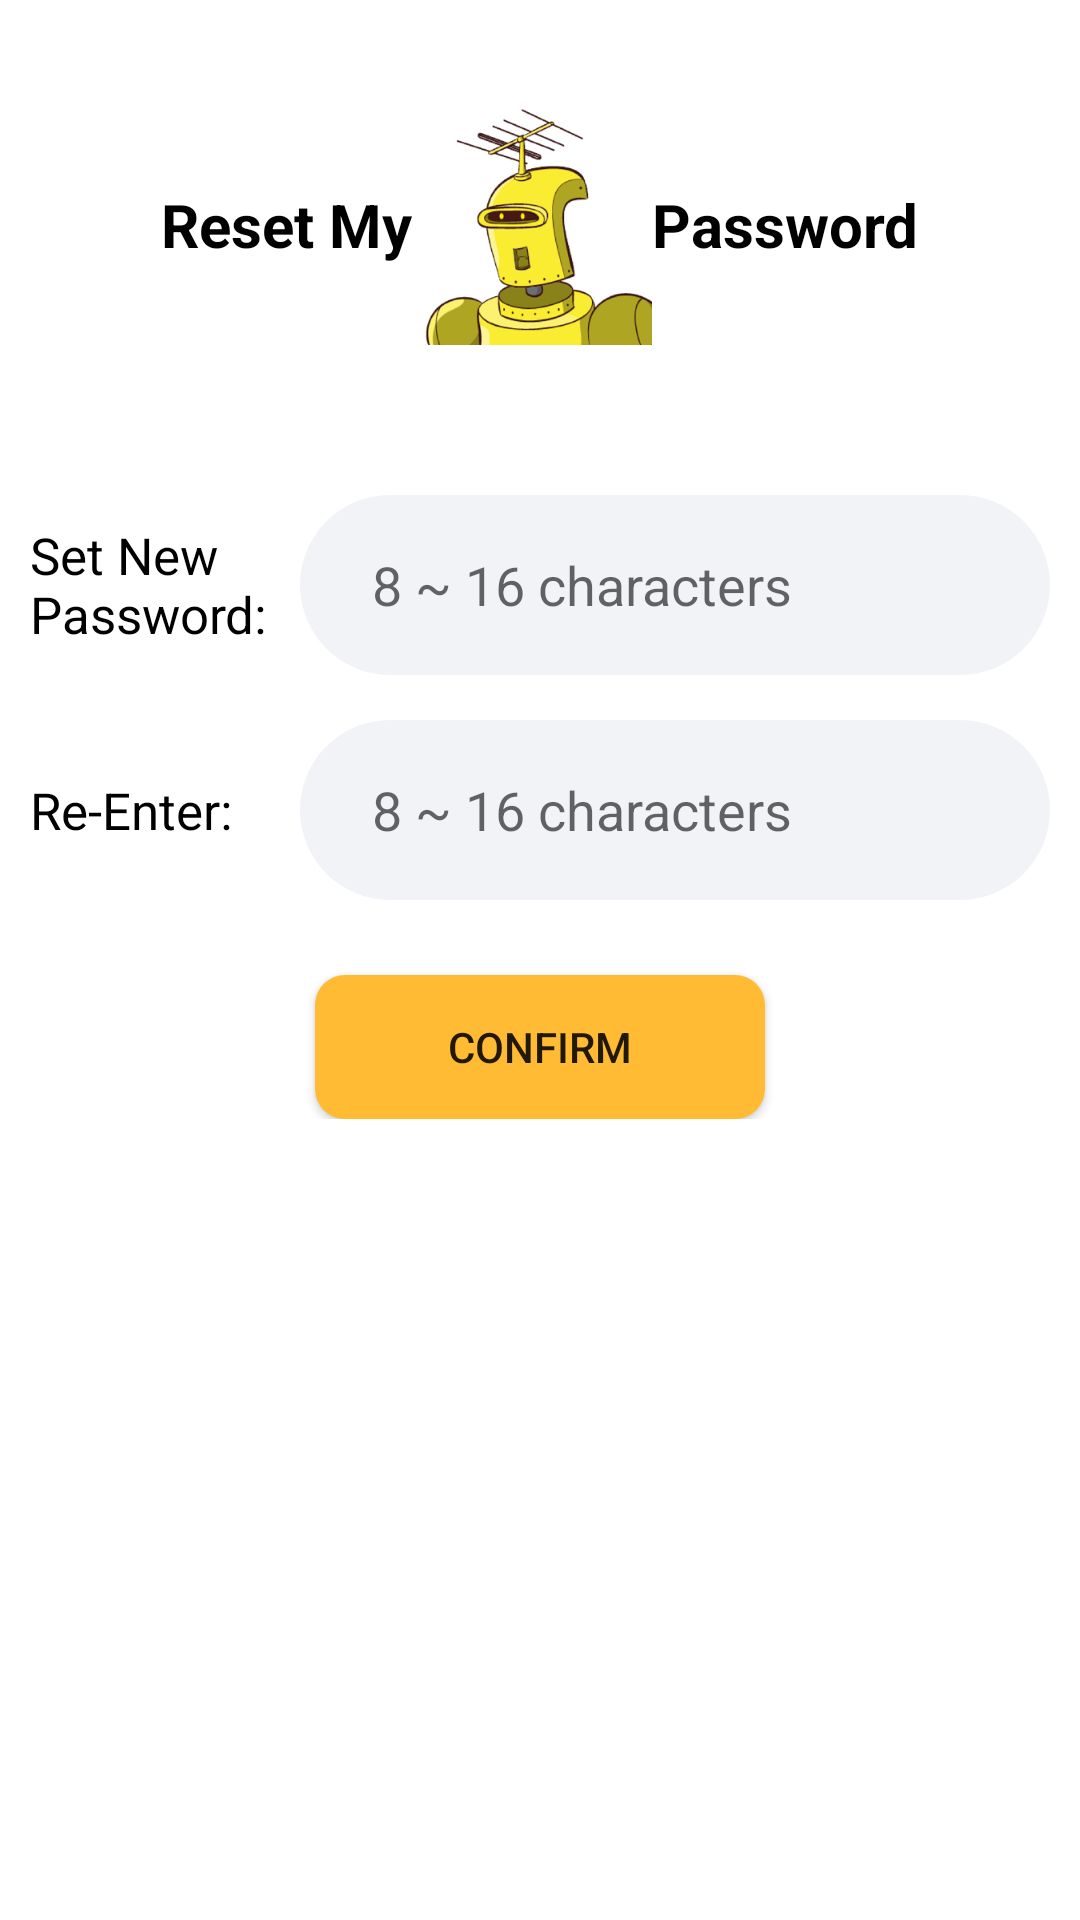

Point at icon controls on the screen. Image size 1080px x 1920px, points as (x,y).
robot: (539,227)
